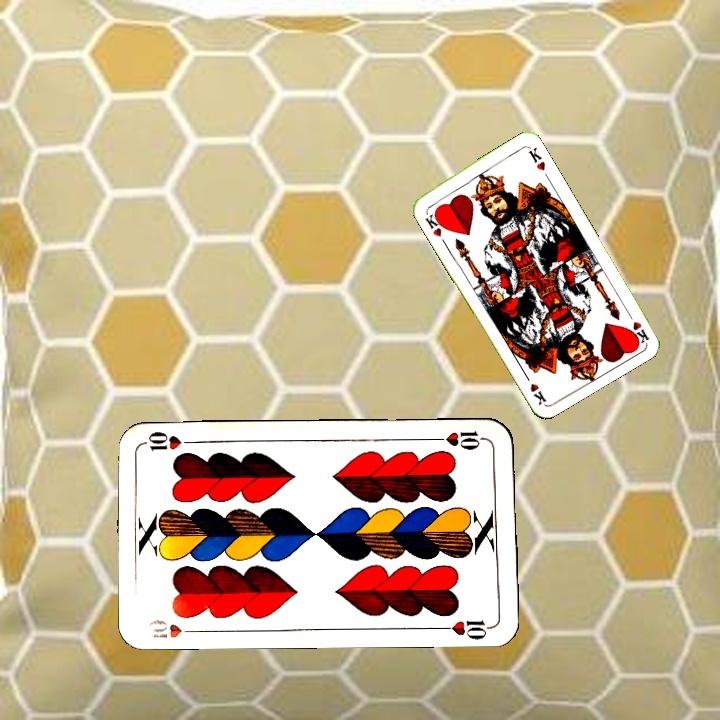H10: (145, 615, 202, 641), (432, 427, 491, 452)
HK: (623, 306, 651, 346), (421, 208, 447, 239)
